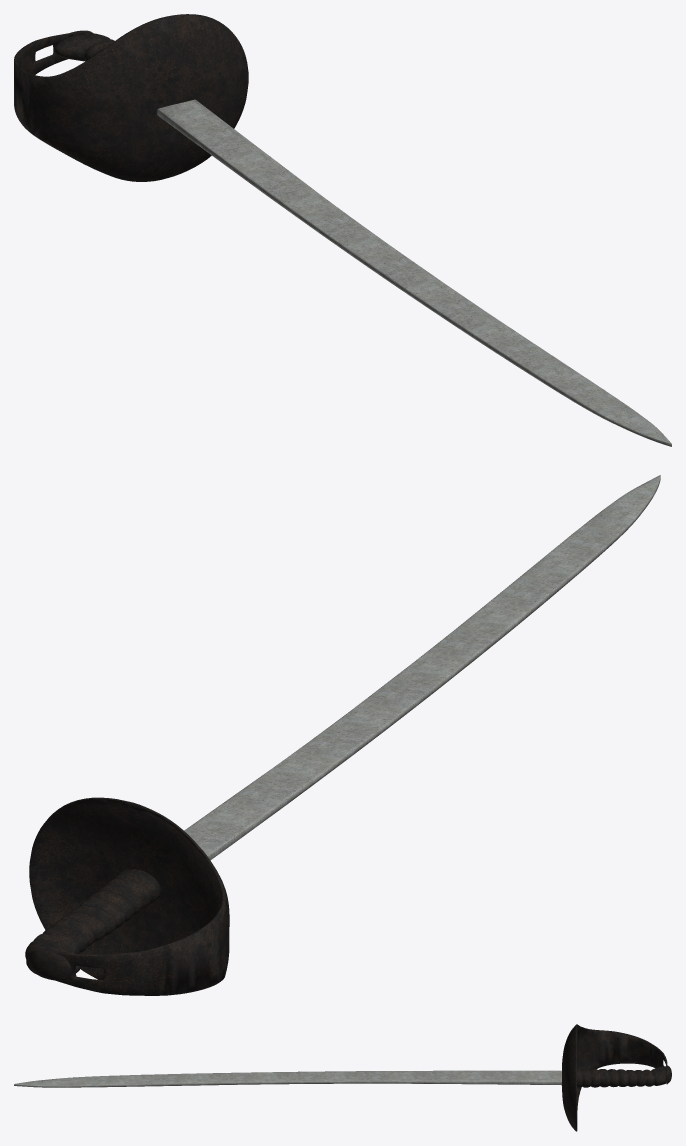
Rendered from cutlass.glb.
3 renders of one model, top to bottom at view 1: azimuth 30°, elevation 25°; view 2: azimuth 150°, elevation 25°; view 3: azimuth 270°, elevation 25°, orthographic. The views are drawn at different scales.
Parts seen in each view (by area): view 1: Object_3, Object_2; view 2: Object_3, Object_2; view 3: Object_2, Object_3.
Part boxes in pixels (bbox=[...]): Object_3: bbox=[14, 14, 248, 181]; Object_2: bbox=[157, 99, 671, 446]; Object_3: bbox=[25, 797, 229, 995]; Object_2: bbox=[184, 475, 660, 860]; Object_2: bbox=[14, 1070, 561, 1087]; Object_3: bbox=[561, 1024, 671, 1131].
Size of the model in its own units: 170 by 138 by 873.
2 materials, 2 textured.
